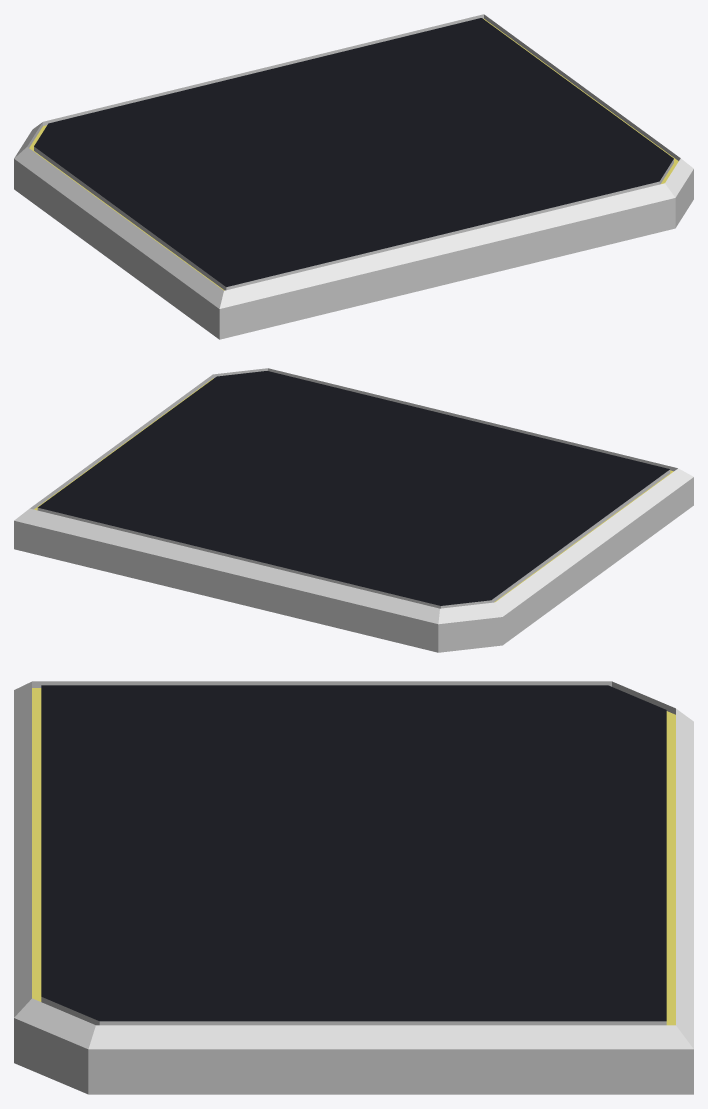
File: MachineScreen.fbx
3 renders of one model, top to bottom at view 1: azimuth 30°, elevation 25°; view 2: azimuth 150°, elevation 25°; view 3: azimuth 270°, elevation 25°, orthographic. The views are drawn at different scales.
Parts seen in each view (by area): view 1: Cube; view 2: Cube; view 3: Cube.
Part boxes in pixels (x1,y1,x2,y2): Cube: [14, 14, 693, 339]; Cube: [14, 368, 693, 652]; Cube: [14, 681, 693, 1094].
Bounding box in the file's own units: 250 × 20 × 200.
